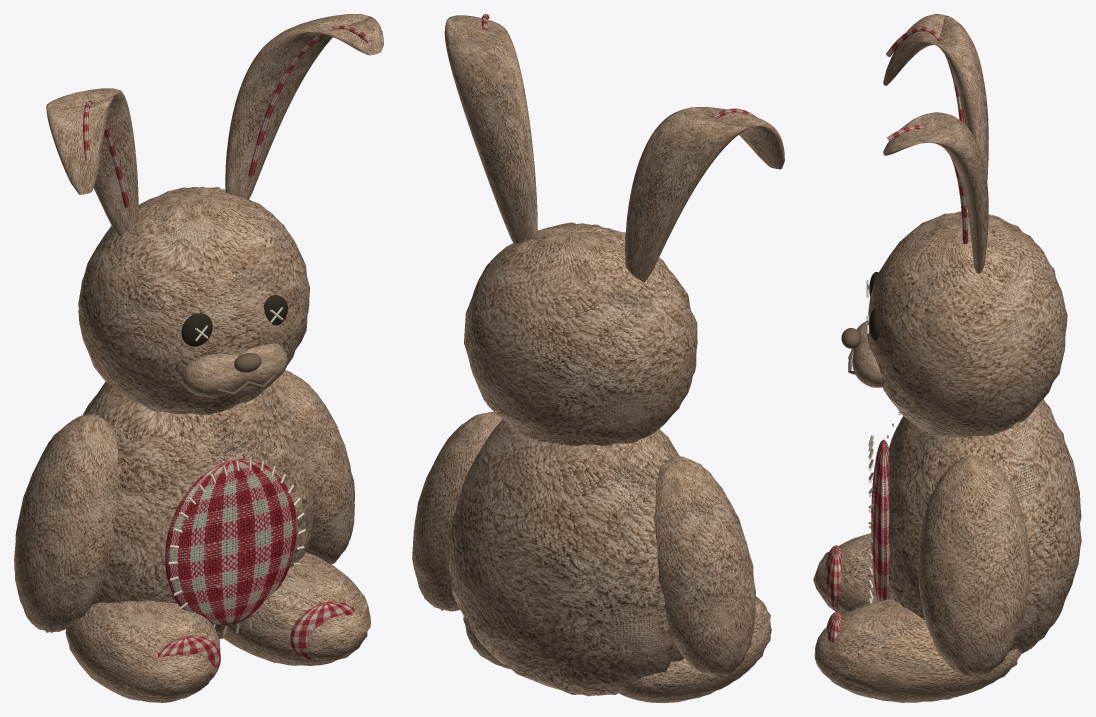
The model's file is stitched-rabbit.glb.
3 views of the same model, side by side, from view 1: azimuth 30°, elevation 25°; view 2: azimuth 150°, elevation 25°; view 3: azimuth 270°, elevation 25° (orthographic). The views are drawn at different scales.
Visible parts, largest first — view 1: Pear-shaped stuffed body; view 2: Pear-shaped stuffed body; view 3: Pear-shaped stuffed body.
Part boxes in pixels (left/top/right/bottom): Pear-shaped stuffed body: left=14, top=14, right=383, bottom=702; Pear-shaped stuffed body: left=412, top=14, right=784, bottom=702; Pear-shaped stuffed body: left=813, top=14, right=1081, bottom=702.
Bounding box in the file's own units: 0.7886 × 1.42 × 0.5791.
Materials: 5 (2 with a texture image).
